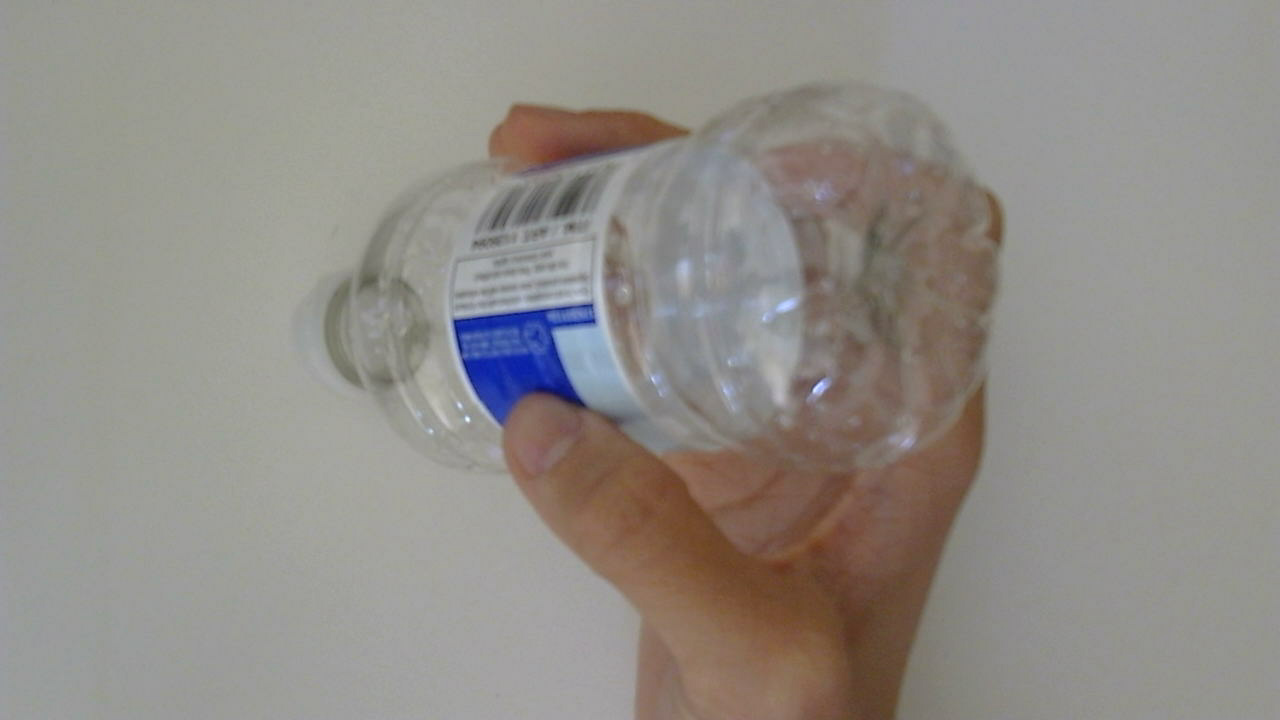Plastic Bottle: (281, 82, 1012, 485)
